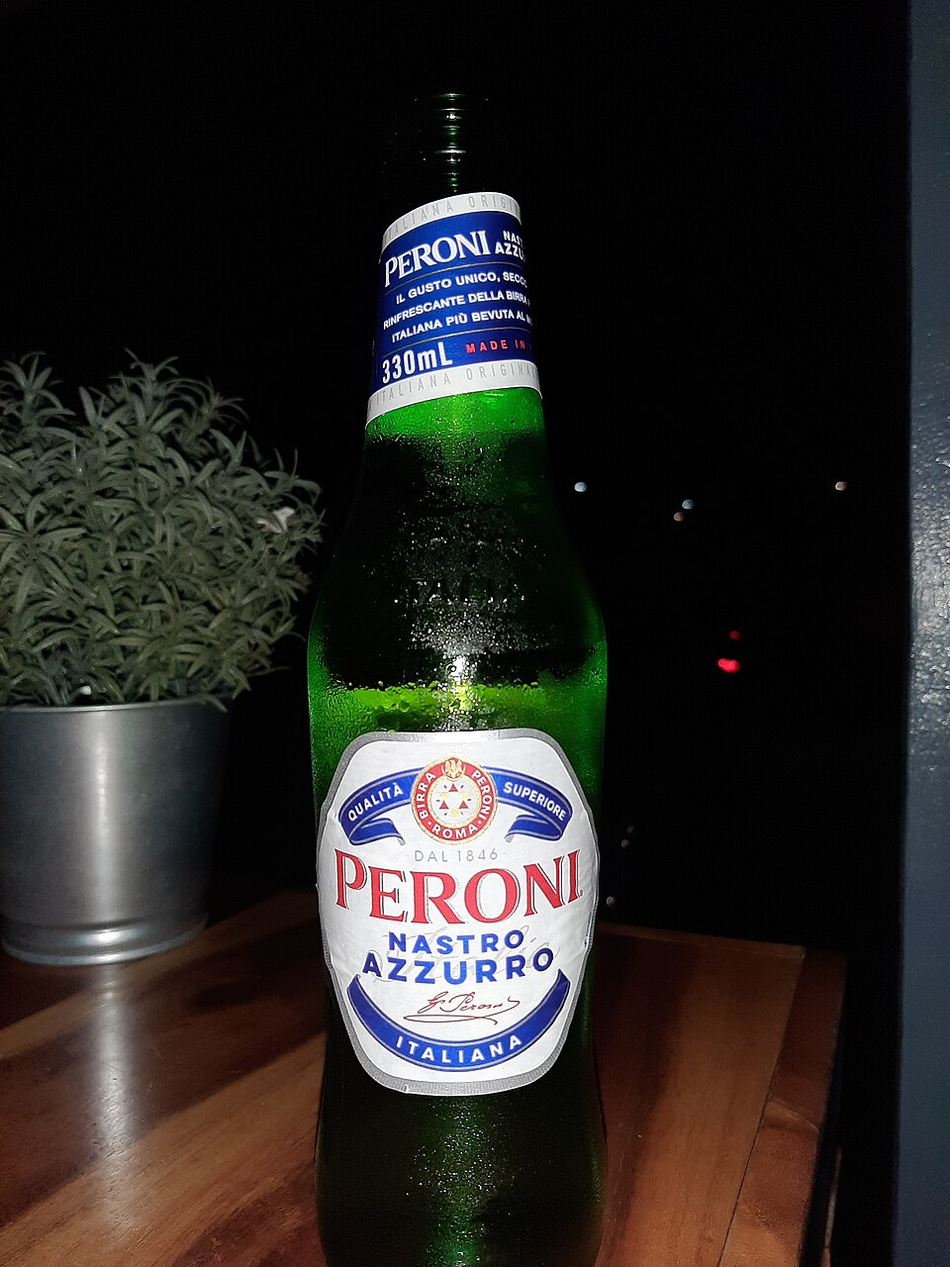beer-bottle: (298, 89, 618, 1253)
